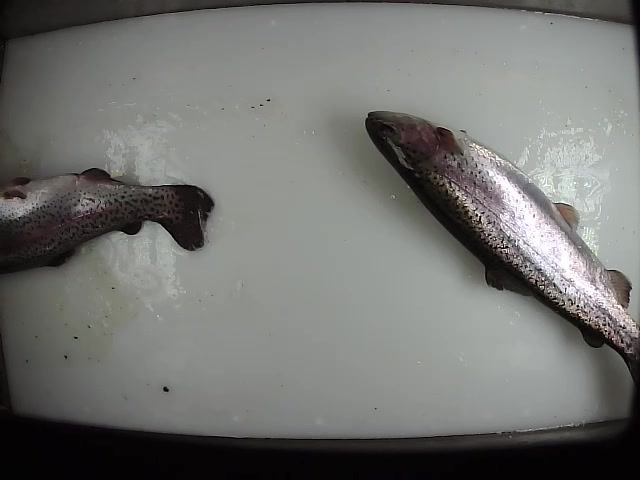fish: (365, 110, 639, 415)
